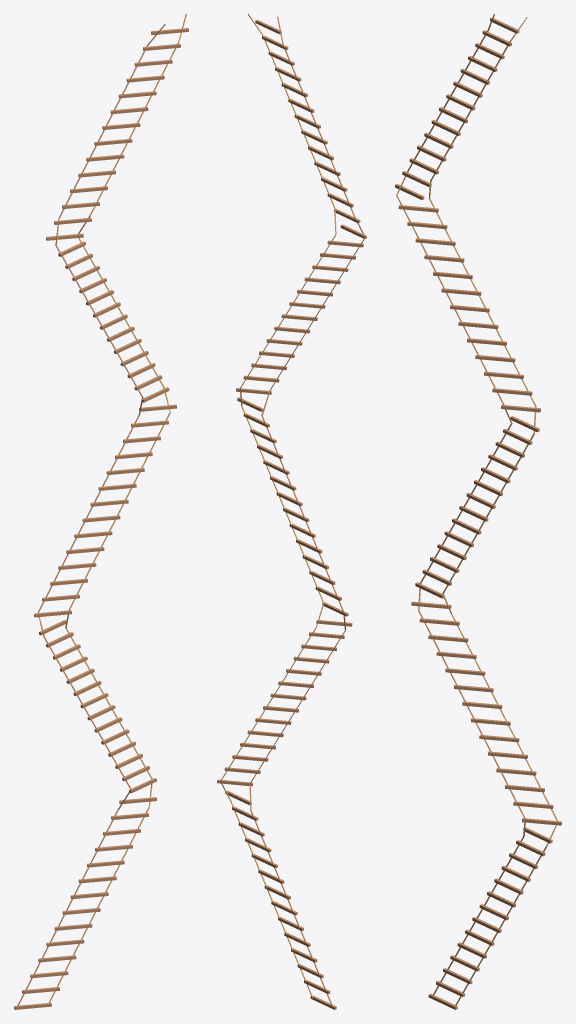
The model's file is Chaos_Storm.fbx.
3 views of the same model, side by side, from view 1: azimuth 30°, elevation 25°; view 2: azimuth 150°, elevation 25°; view 3: azimuth 330°, elevation 25° (orthographic). The views are drawn at different scales.
Parts seen in each view (by area): view 1: Chaos_Storm; view 2: Chaos_Storm; view 3: Chaos_Storm.
Part boxes in pixels (x1,y1,x2,y2): Chaos_Storm: (14, 14, 188, 1009); Chaos_Storm: (217, 14, 366, 1009); Chaos_Storm: (395, 14, 561, 1009).
Size of the model in its own units: 7.79 by 55.08 by 4.69.
